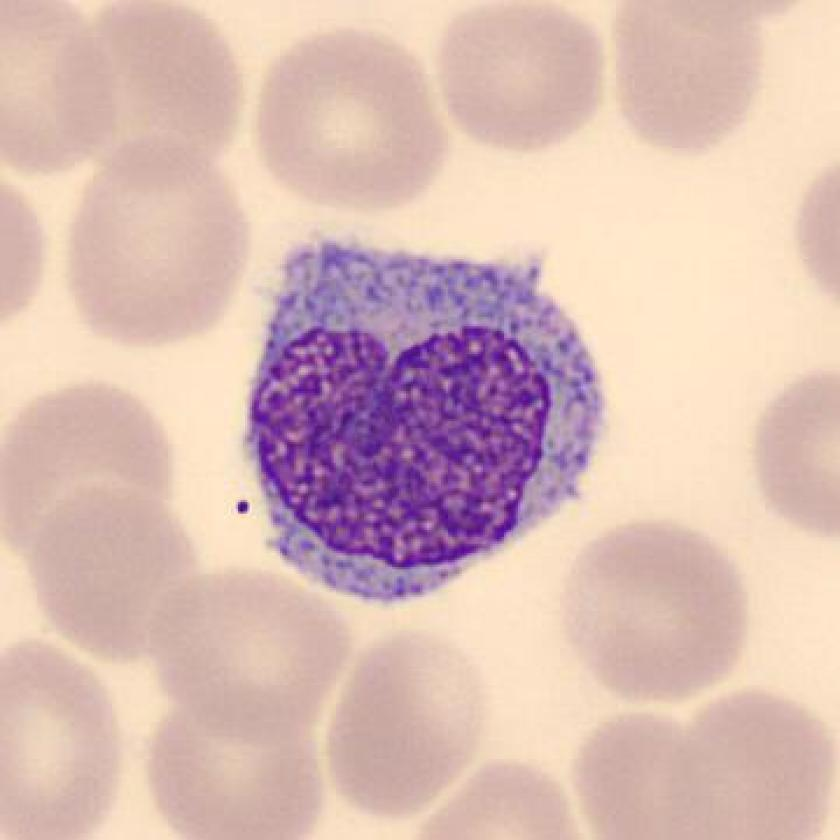monocyte: (220, 209, 622, 617)
